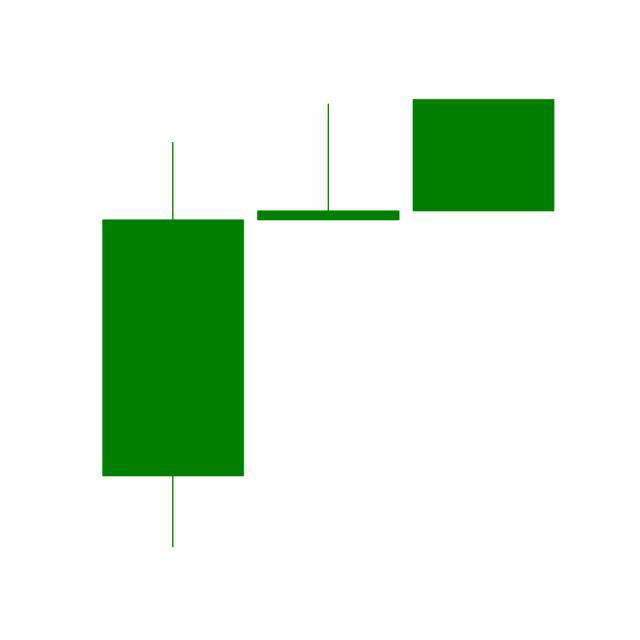Gravestone Doji: (250, 102, 407, 222)
